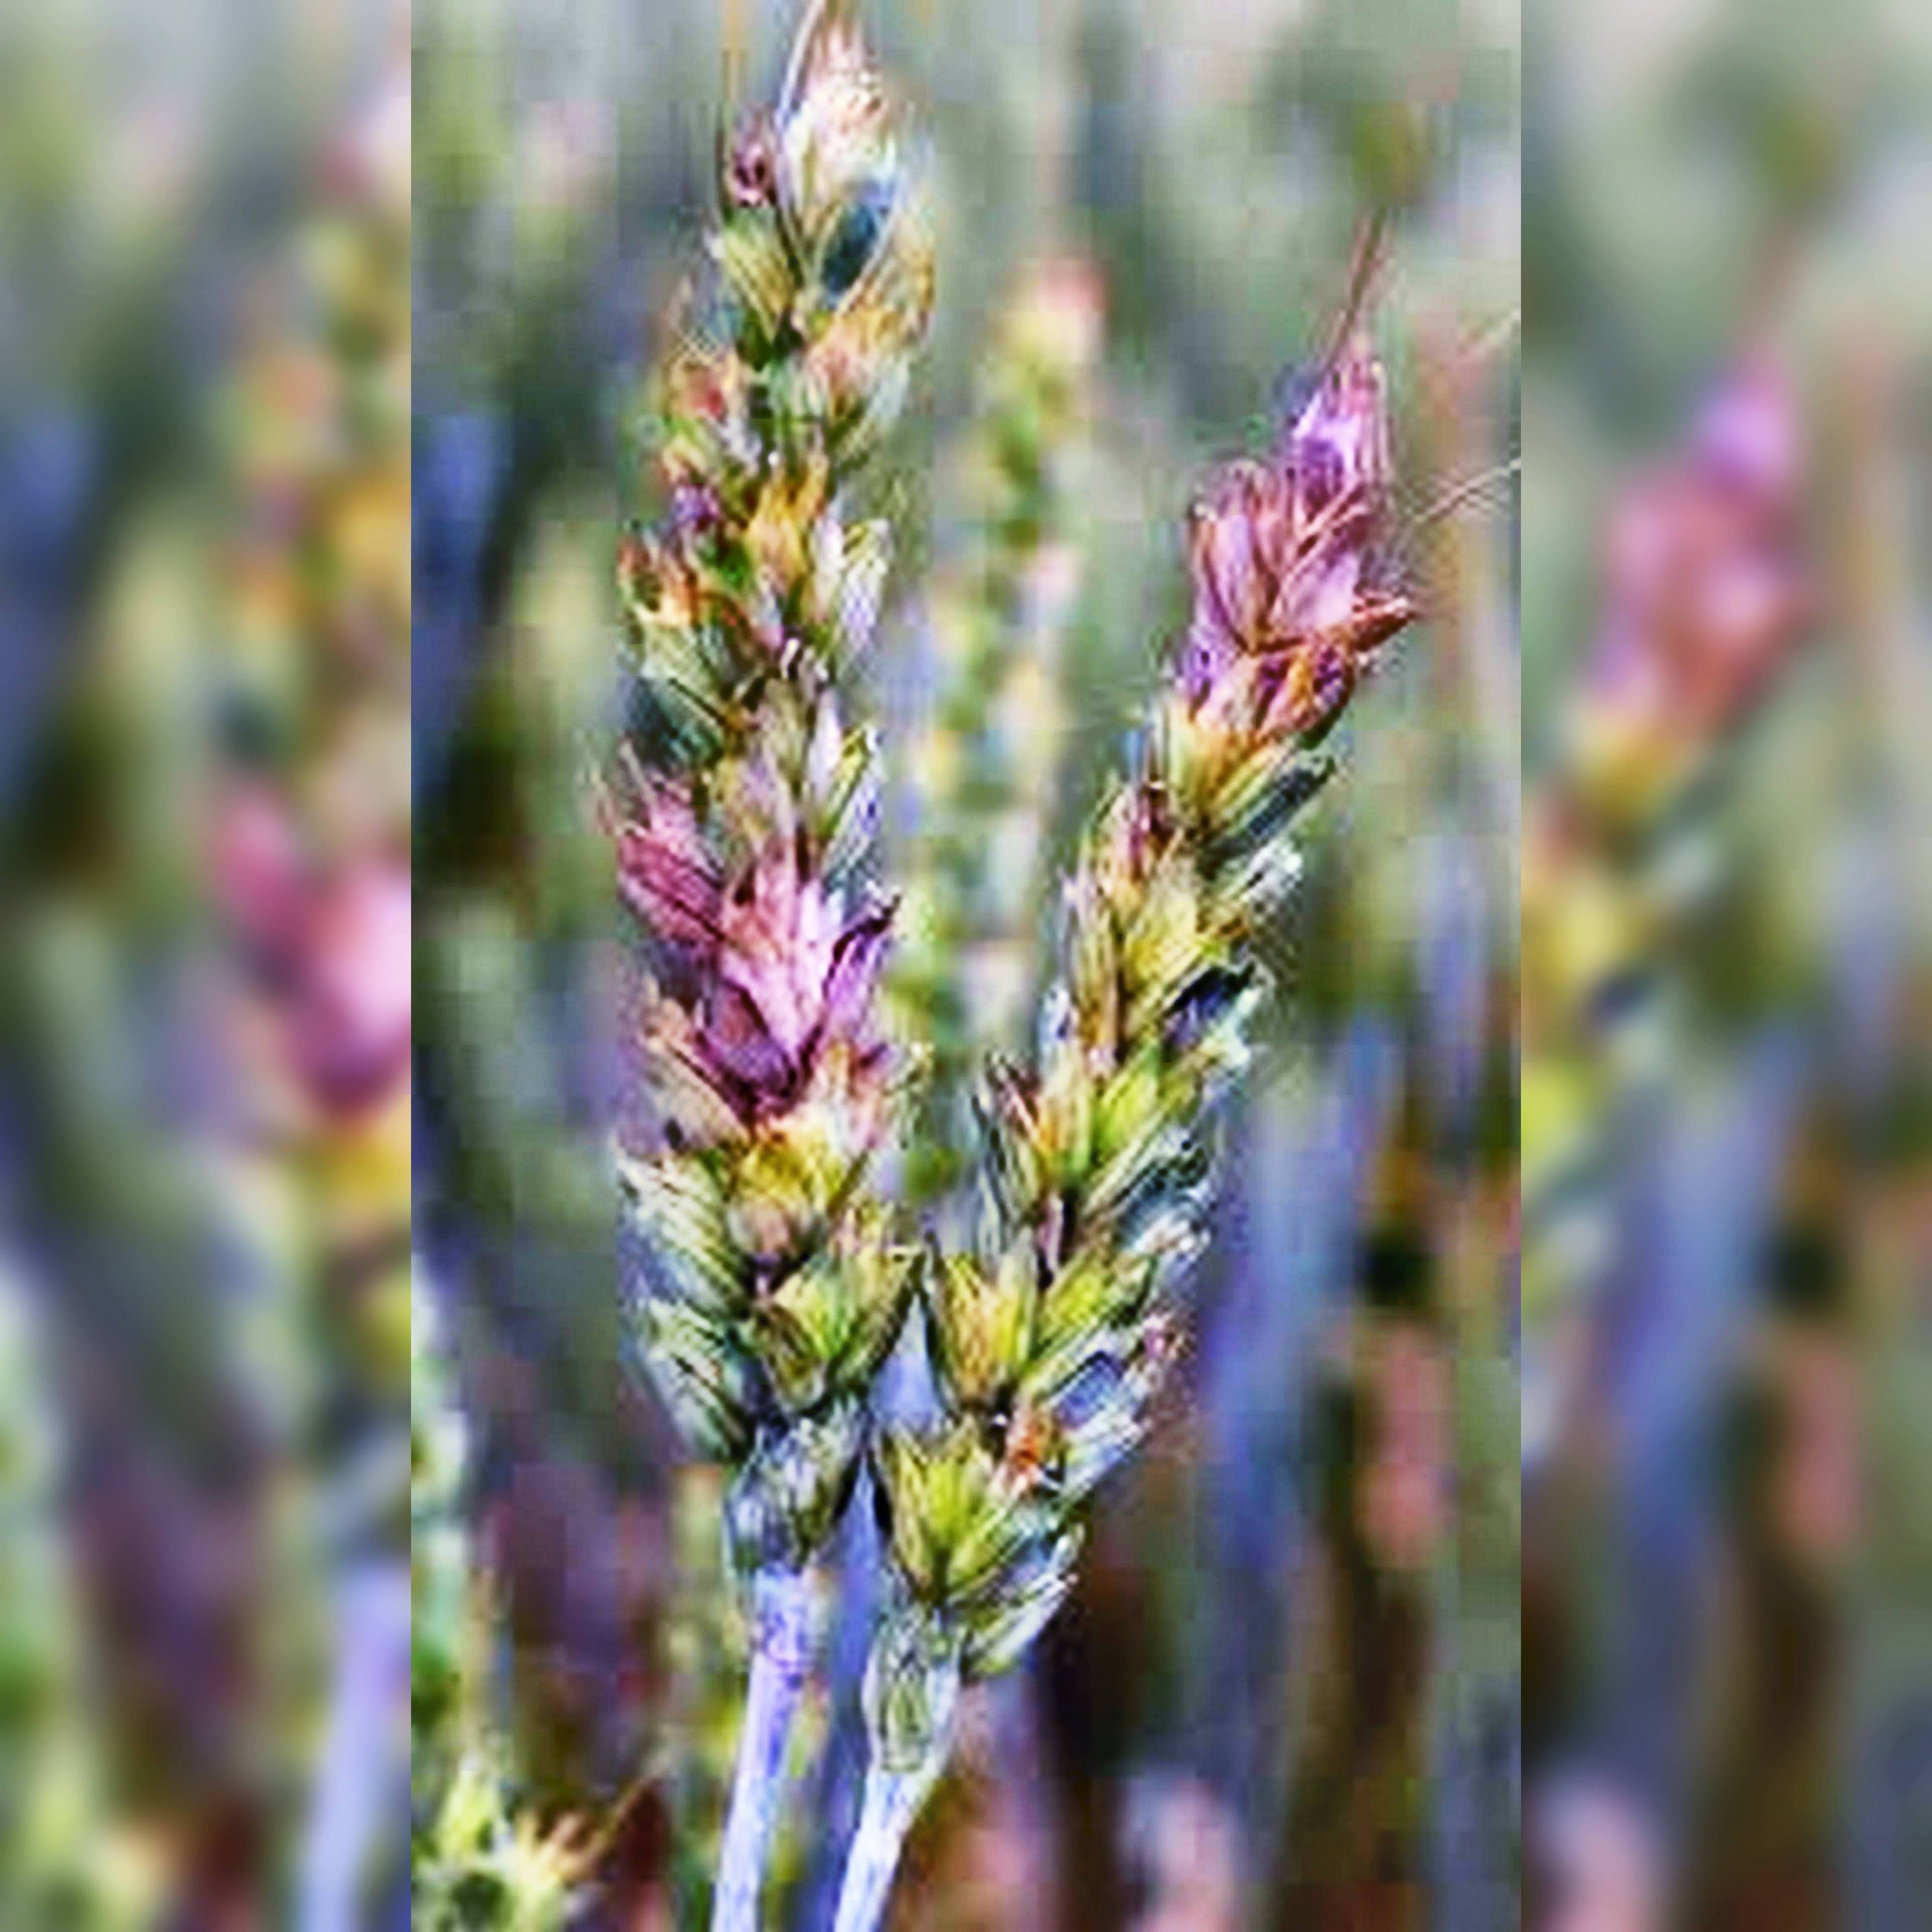Wheat scab: (899, 334, 1504, 1645), (596, 80, 911, 1506)
